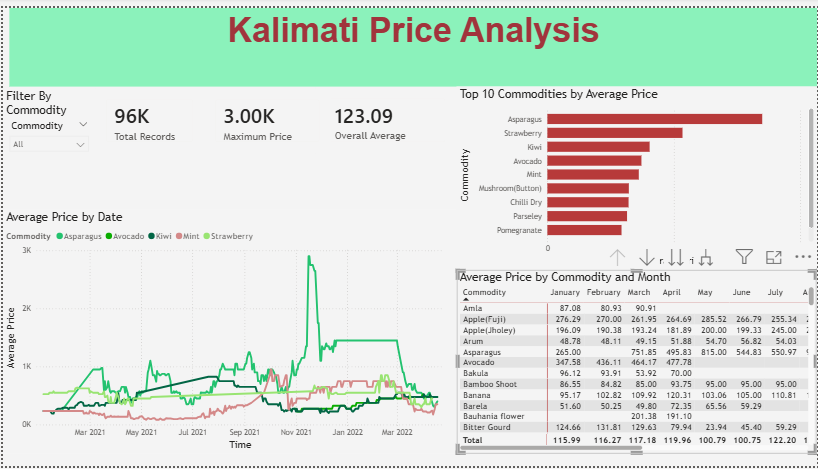

This screenshot's page, from the dashboard's own definition file:
{"tool":"powerbi","page":{"name":"Page 1","canvas":[1280,720],"ordinal":0},"visuals":[{"type":"textbox","box":[9.3,0,1270.9,123.2],"z":0},{"type":"cardVisual","fields":{"Data":["dataser.Average"]},"box":[491.9,125.8,221.3,103.5],"z":1000},{"type":"cardVisual","fields":{"Data":["dataser.Max"]},"box":[316.8,127.4,199,101.9],"z":2000},{"type":"cardVisual","fields":{"Data":["dataser.Total_Records"]},"box":[144.9,127.4,171.9,101.9],"z":3000},{"type":"lineChart","title":"Average Price by Date","fields":{"Y":["Avg(dataser.Average_Price)"],"Series":["dataser.Commodity"],"Category":["dataser.Date"]},"box":[0,316.8,713.2,383.7],"z":4000},{"type":"clusteredBarChart","title":"Top 10 Commodities by Average Price","fields":{"Category":["dataser.Commodity"],"Y":["Avg(dataser.Average_Price)"]},"box":[713.2,122.6,566.7,288.1],"z":5000},{"type":"slicer","title":"Filter By Commodity","fields":{"Values":["dataser.Commodity"]},"box":[0,127.4,144.9,101.9],"z":6000},{"type":"pivotTable","title":"Average Price by Commodity and Month","fields":{"Rows":["dataser.Commodity"],"Values":["dataser.Average"],"Columns":["dataser.Date.Variation.Date Hierarchy.Month","dataser.Date.Variation.Date Hierarchy.Day"]},"box":[713,411,567,289],"z":7000}]}

Visuals, with their boxes in screenshot pixels (x1, y1, x2, y2), scaled from the page's 1280x720 canvas onto the 818x469 screenshot:
textbox: bbox=[6, 0, 817, 80]
cardVisual - dataser.Average: bbox=[314, 82, 456, 149]
cardVisual - dataser.Max: bbox=[202, 83, 330, 149]
cardVisual - dataser.Total_Records: bbox=[93, 83, 202, 149]
"Average Price by Date" lineChart: bbox=[0, 206, 456, 456]
"Top 10 Commodities by Average Price" clusteredBarChart: bbox=[456, 80, 817, 268]
"Filter By Commodity" slicer: bbox=[0, 83, 93, 149]
"Average Price by Commodity and Month" pivotTable: bbox=[456, 268, 817, 456]
